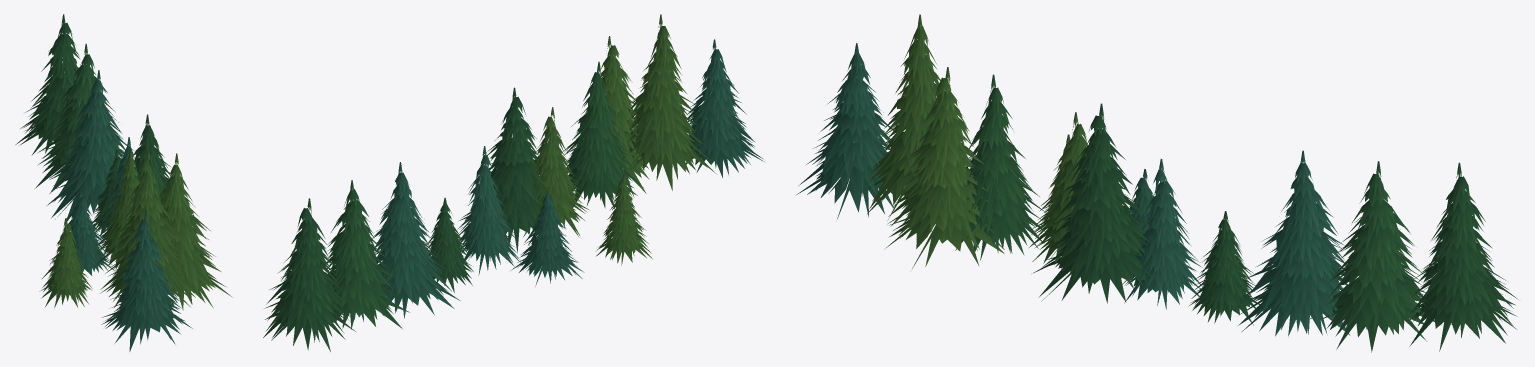
File: pine_19.glb
The picture shows the model from 3 angles, left to right: view 1: azimuth 30°, elevation 25°; view 2: azimuth 150°, elevation 25°; view 3: azimuth 270°, elevation 25°; orthographic projection. The views are drawn at different scales.
Parts seen in each view (by area): view 1: pine_19; view 2: pine_19; view 3: pine_19.
Part boxes in pixels (<box>): pine_19: <box>15,14,232,351</box>; pine_19: <box>263,14,763,351</box>; pine_19: <box>796,14,1518,352</box>.
Size of the model in its own units: 23.24 by 17.92 by 48.08.
Materials: 1 (1 with a texture image).
